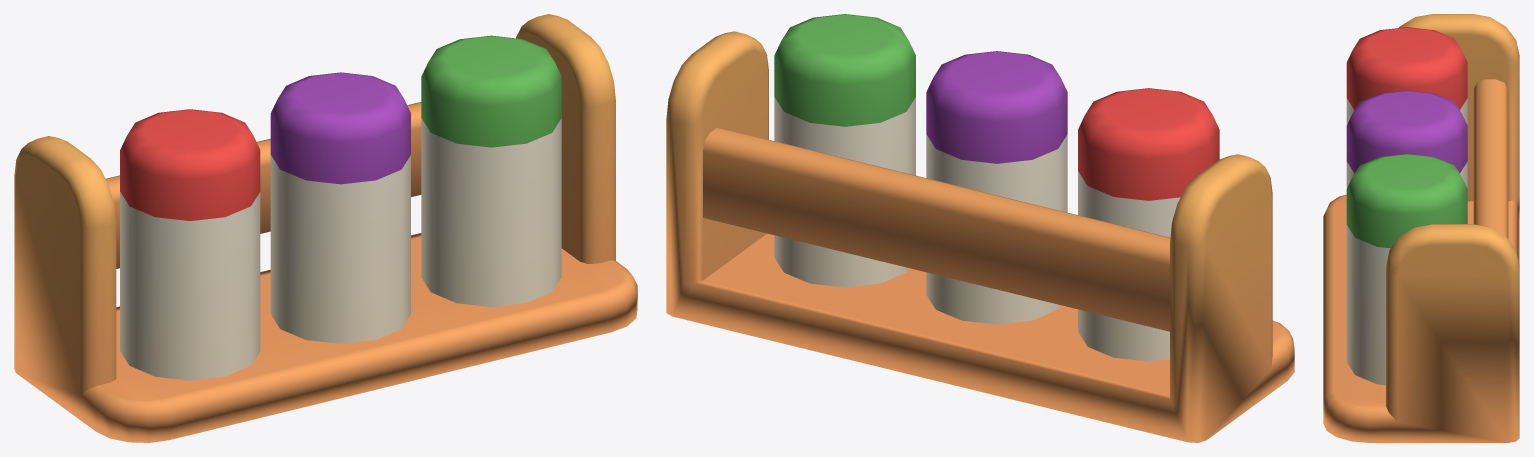
The model's file is Spices_001.glb.
The picture shows the model from 3 angles, left to right: view 1: azimuth 30°, elevation 25°; view 2: azimuth 150°, elevation 25°; view 3: azimuth 270°, elevation 25°; orthographic projection. The views are drawn at different scales.
Parts seen in each view (by area): view 1: Spices_001; view 2: Spices_001; view 3: Spices_001.
Boxes of the visible parts, x1=… form: Spices_001: x1=14, y1=14, x2=637, y2=442; Spices_001: x1=666, y1=14, x2=1294, y2=442; Spices_001: x1=1323, y1=14, x2=1519, y2=442.
Bounding box in the file's own units: 0.2845 × 0.1308 × 0.1051.
1 material, 1 textured.
